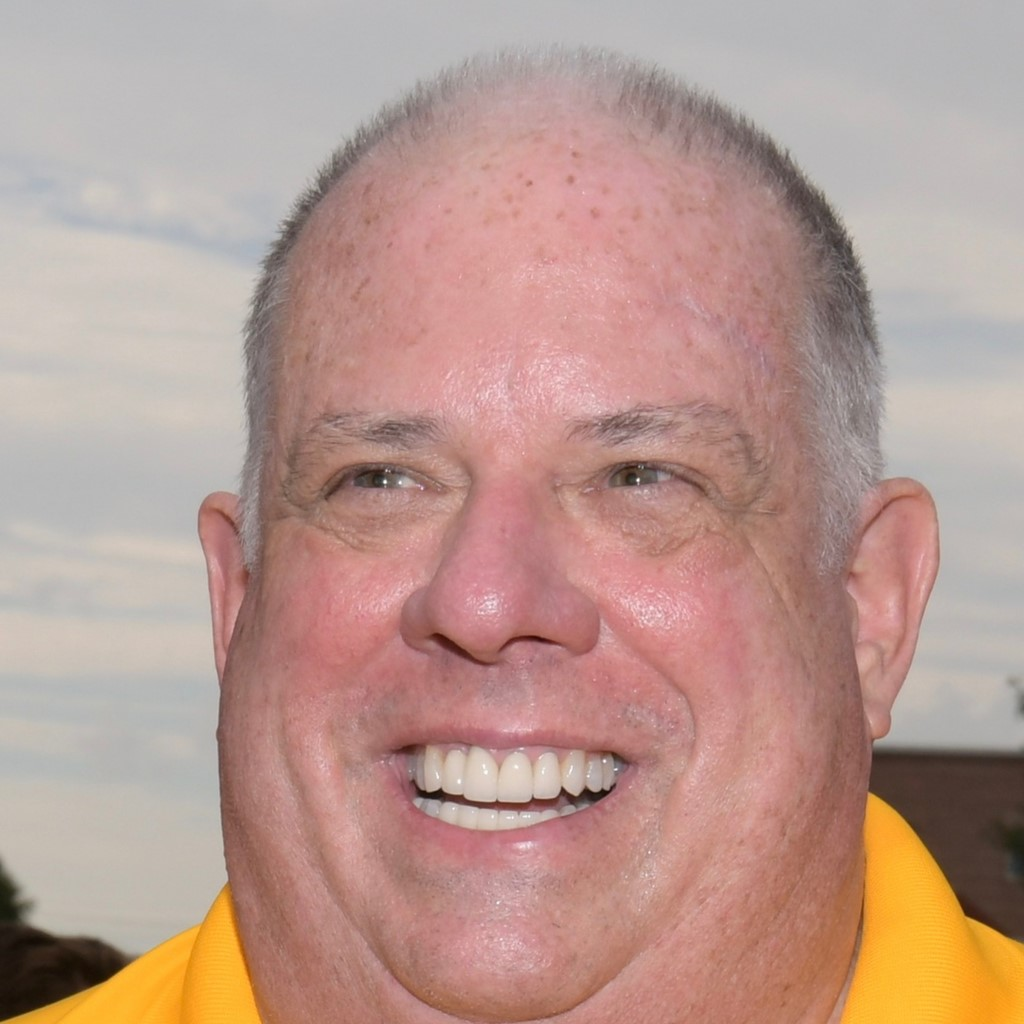sin_mascara: (237, 65, 925, 993)
